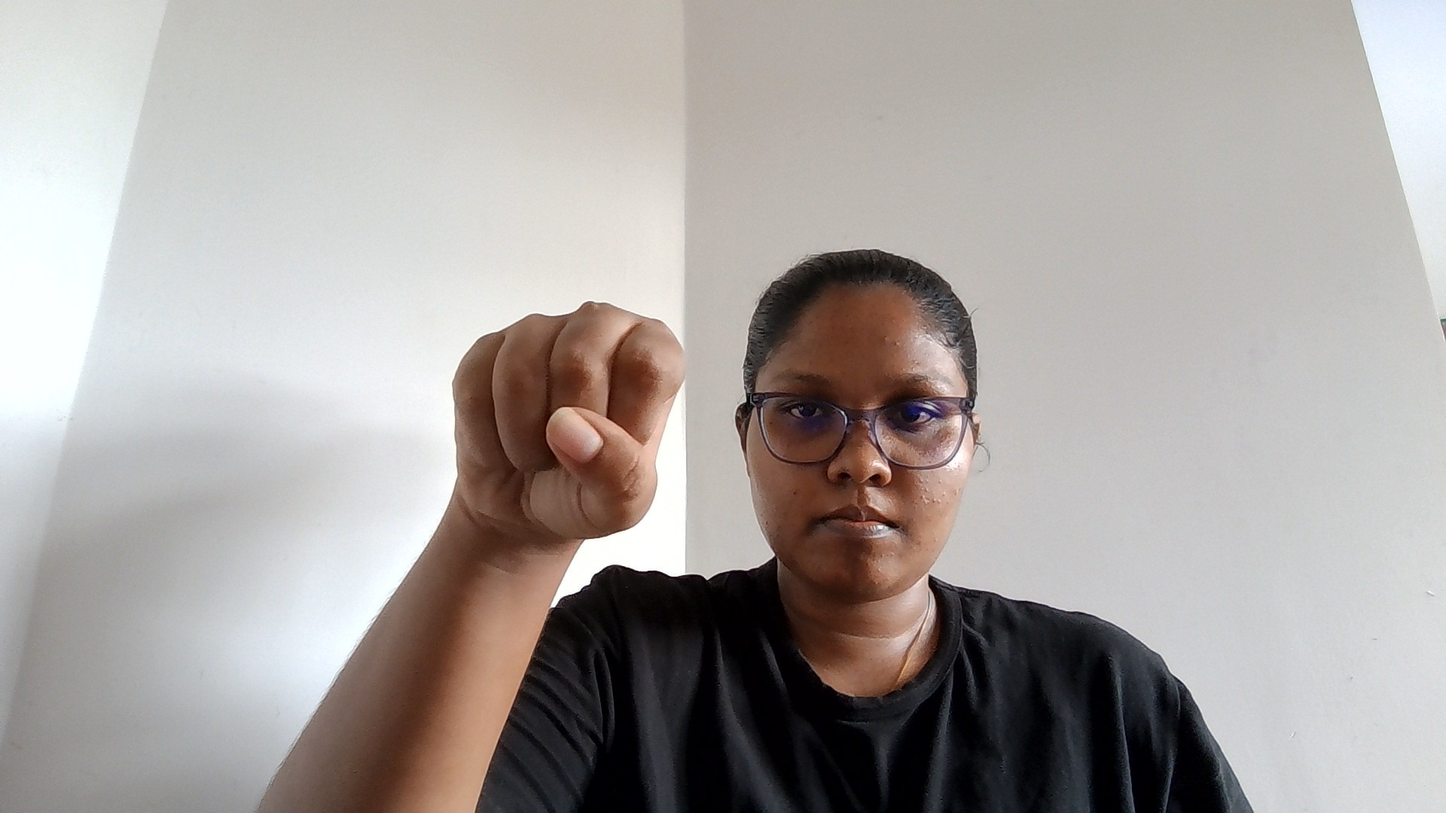Yes: (232, 250, 759, 625)
